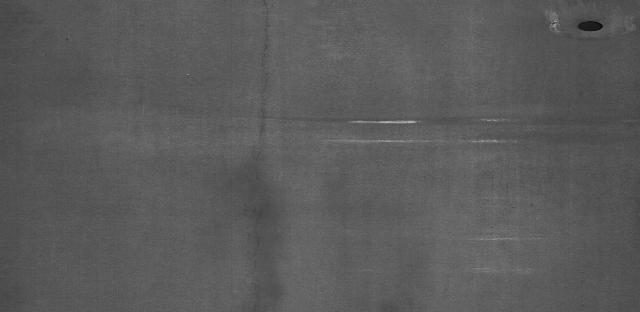punching_hole: (577, 18, 607, 37)
silk_spot: (249, 8, 281, 306)
